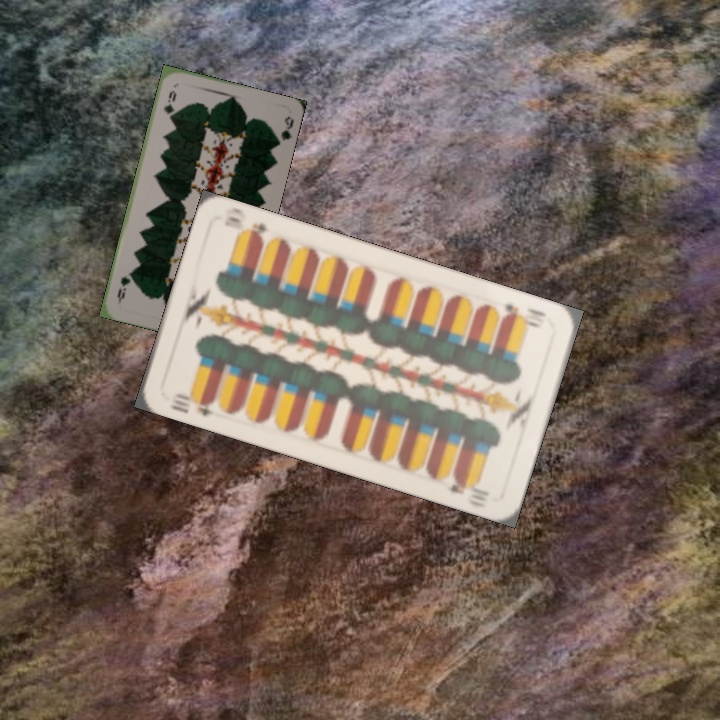E10: (499, 300, 548, 331), (171, 389, 217, 419)
G9: (160, 86, 179, 121)
